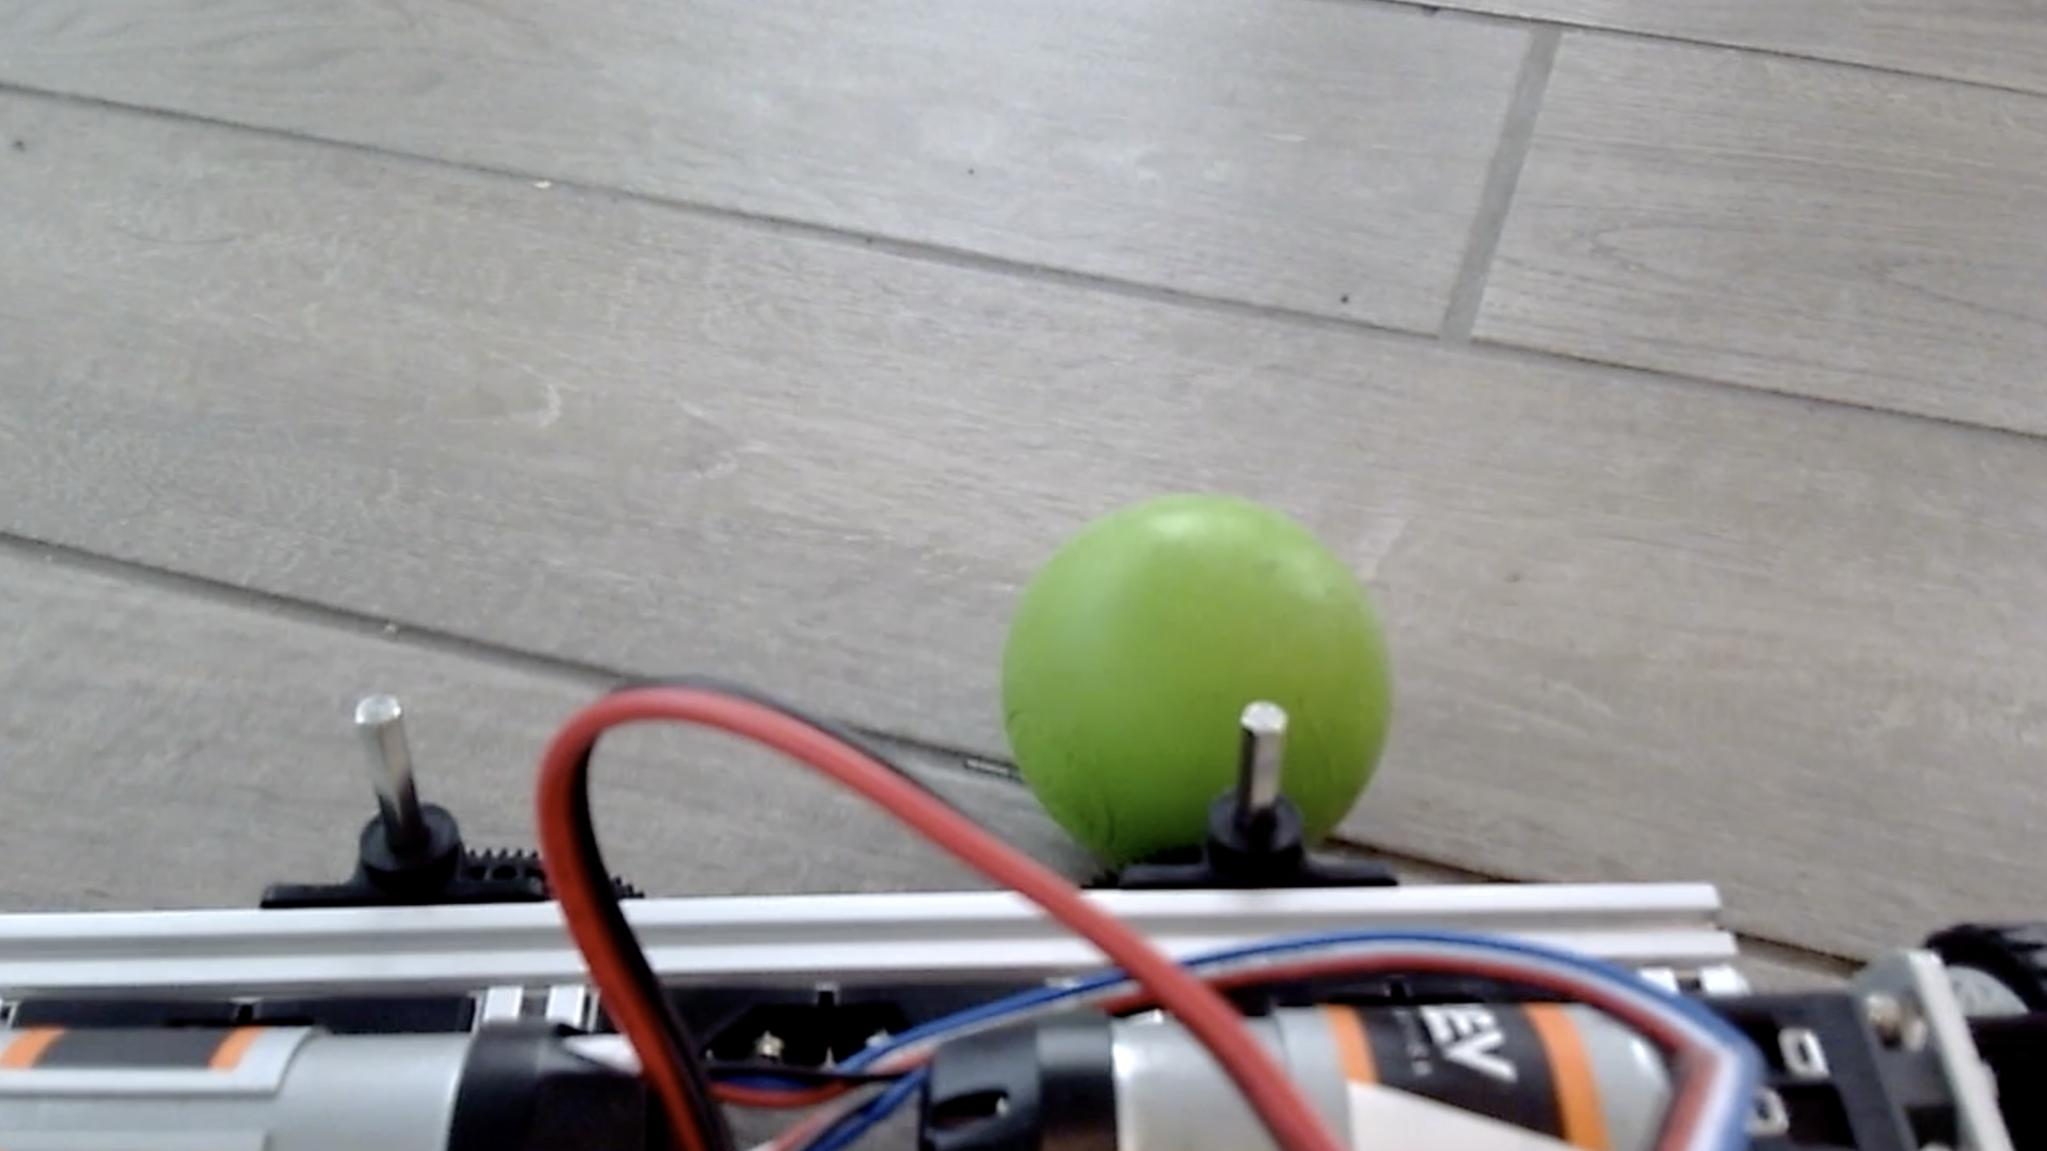greenball: (1000, 488, 1395, 870)
